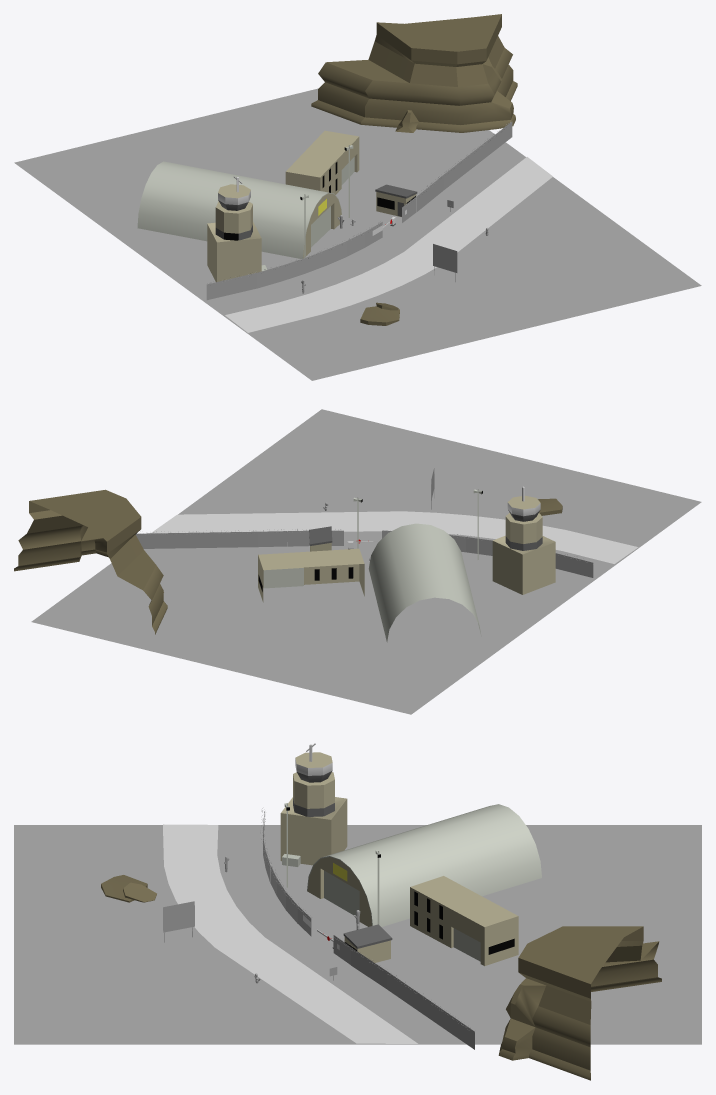
File: SCENEZONE51.fbx
3 views of the same model, one above another, from view 1: azimuth 30°, elevation 25°; view 2: azimuth 150°, elevation 25°; view 3: azimuth 270°, elevation 25° (orthographic). The views are drawn at different scales.
Parts seen in each view (by area): view 1: SOLµ, ROCHE3, HANGAR, pPlane3, GRILLAGES, pCube5, BASE, SECU, ROCHE1, paneau1; view 2: SOLµ, ROCHE3, pPlane3, HANGAR, pCube5, GRILLAGES, BASE, SECU; view 3: SOLµ, HANGAR, ROCHE3, pPlane3, BASE, pCube5, GRILLAGES, SECU, ROCHE1, paneau1.
Part boxes in pixels (x1,y1,x2,y2): SOLµ: (14, 88, 701, 380); ROCHE3: (311, 14, 517, 132); HANGAR: (137, 161, 341, 258); pPlane3: (225, 157, 552, 332); GRILLAGES: (206, 121, 512, 300); pCube5: (207, 184, 261, 282); BASE: (285, 130, 359, 194); SECU: (375, 184, 417, 216); ROCHE1: (360, 302, 399, 325); paneau1: (433, 244, 457, 281); SOLµ: (31, 409, 701, 714); ROCHE3: (14, 489, 167, 634); pPlane3: (151, 511, 638, 563); HANGAR: (368, 523, 481, 642); pCube5: (492, 495, 555, 594); GRILLAGES: (135, 529, 593, 577); BASE: (258, 548, 364, 602); SECU: (309, 526, 332, 551); SOLµ: (14, 825, 701, 1044); HANGAR: (307, 804, 541, 926); ROCHE3: (498, 926, 661, 1080); pPlane3: (163, 824, 417, 1043); BASE: (410, 876, 518, 966); pCube5: (280, 752, 347, 865); GRILLAGES: (260, 807, 474, 1049); SECU: (343, 924, 392, 962); ROCHE1: (101, 875, 156, 902); paneau1: (163, 901, 194, 942).
Size of the model in its own units: 7069 by 1438 by 8015.
